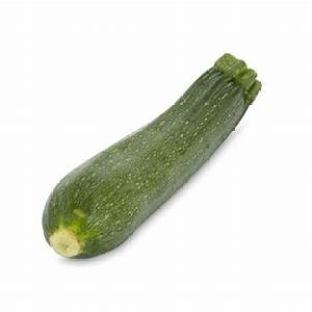Zucchini: (43, 55, 261, 257)
